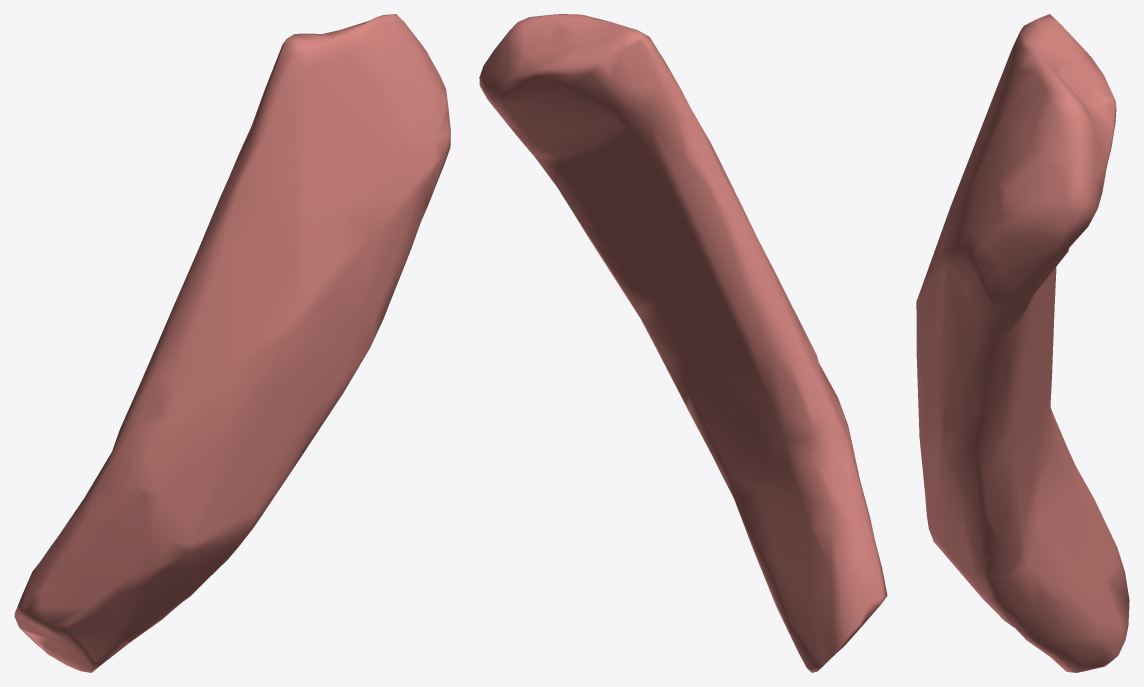
File: fma81538_mm1319.glb
The picture shows the model from 3 angles, left to right: view 1: azimuth 30°, elevation 25°; view 2: azimuth 150°, elevation 25°; view 3: azimuth 270°, elevation 25°; orthographic projection. The views are drawn at different scales.
Visible parts, largest first — view 1: FMA81538_MM1319; view 2: FMA81538_MM1319; view 3: FMA81538_MM1319.
Part boxes in pixels (box(x1,y1,x2,y2)): FMA81538_MM1319: box(14, 14, 450, 672); FMA81538_MM1319: box(479, 14, 887, 672); FMA81538_MM1319: box(916, 14, 1129, 672).
Size of the model in its own units: 0.0165 by 0.0226 by 0.0056.
